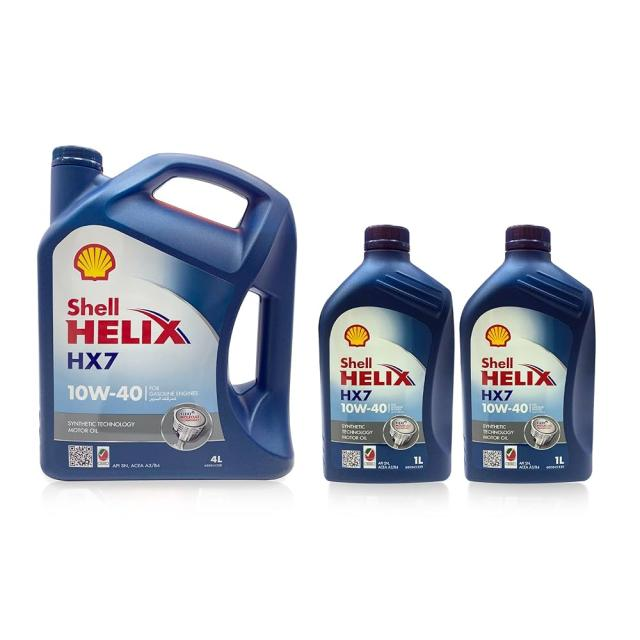motor_oil: (31, 140, 297, 486), (462, 211, 597, 491), (316, 222, 456, 488)
